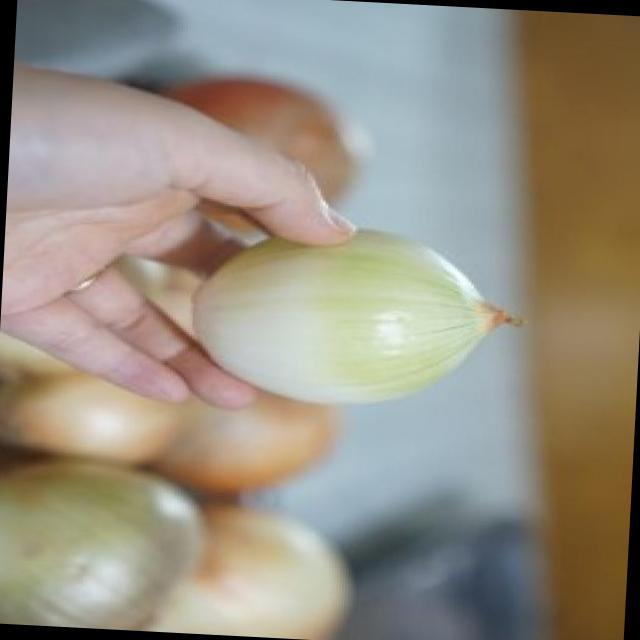Onion: (196, 230, 493, 403)
